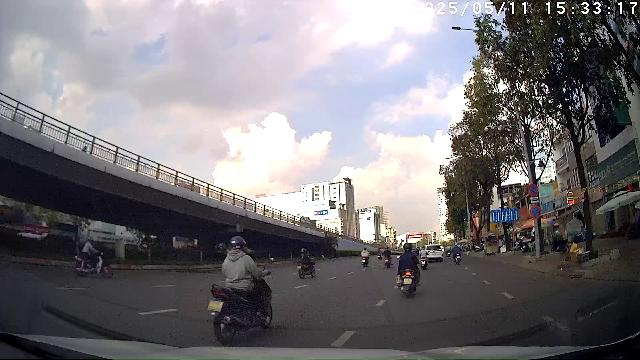130-cam-dung-va-do-xe: (528, 183, 540, 197)
131a-cam-do-xe: (530, 205, 542, 219)
